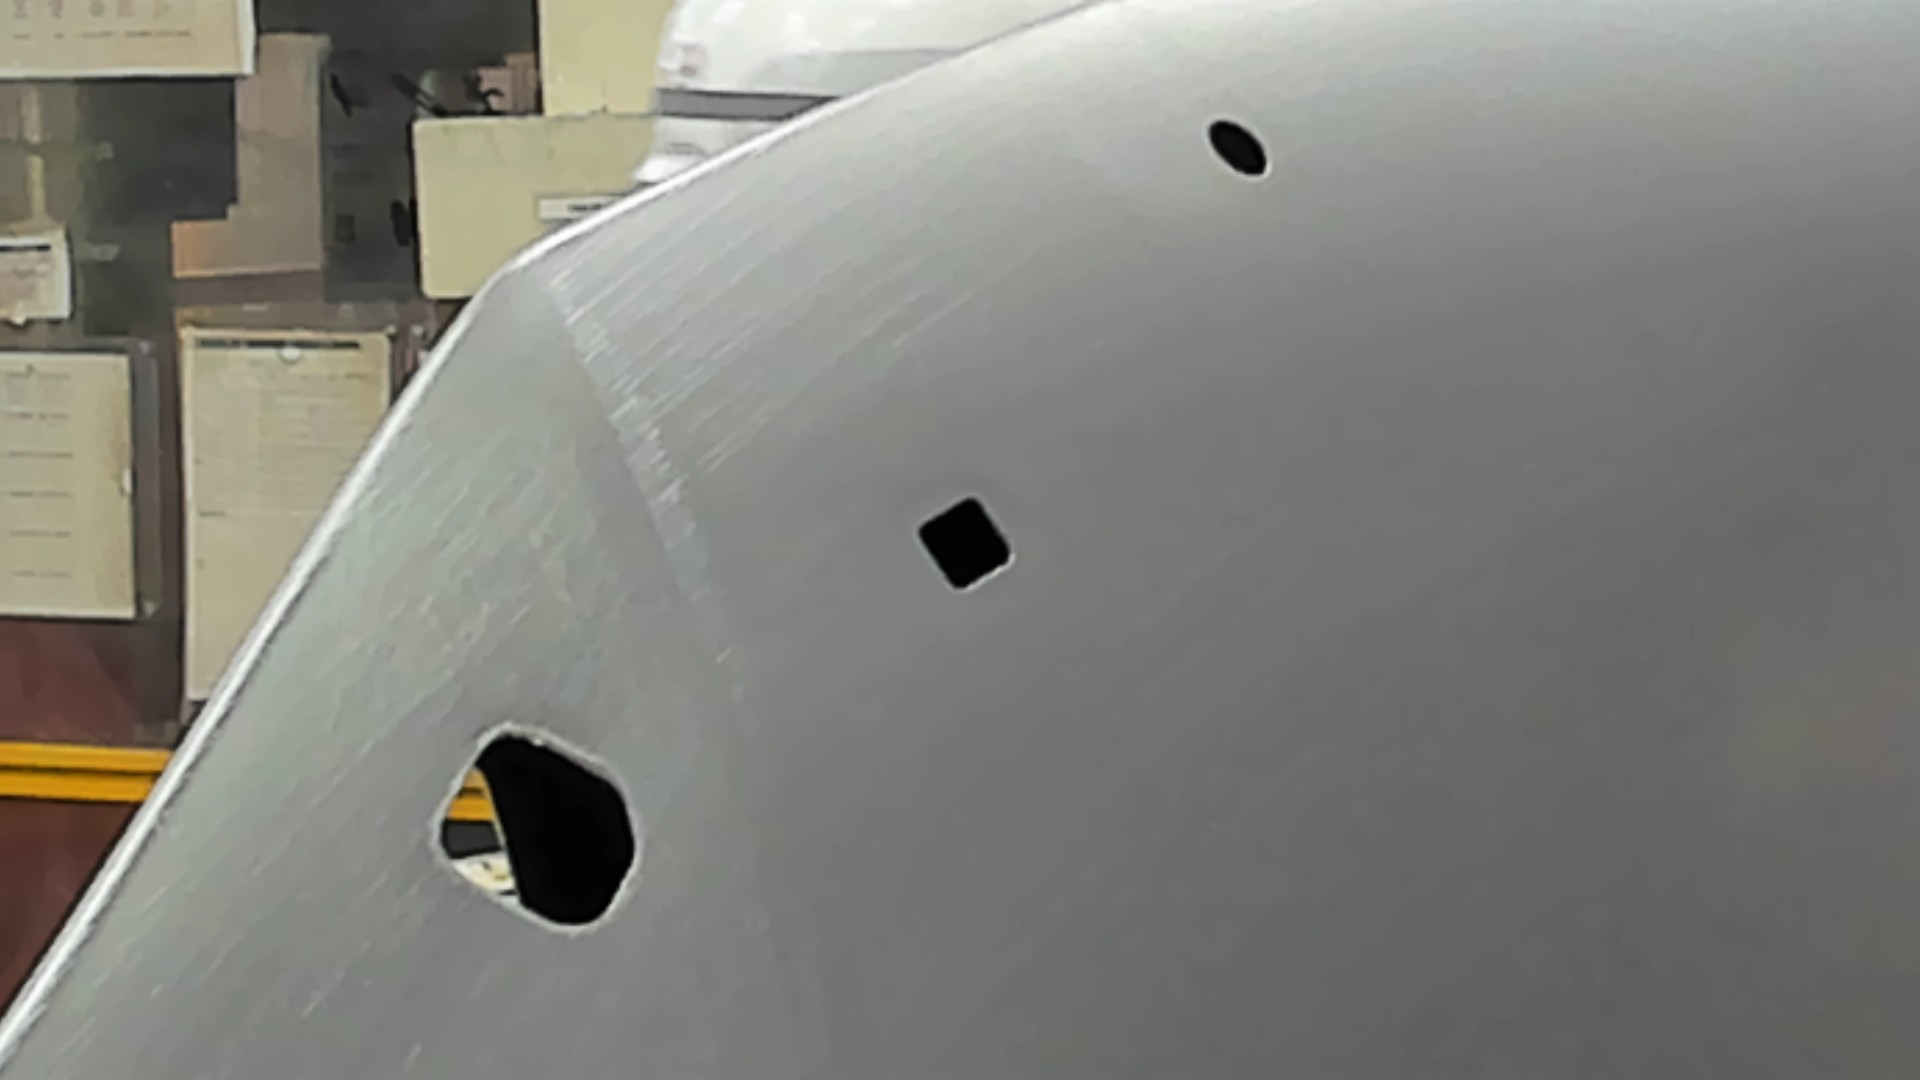chico: (1197, 113, 1271, 182)
grande: (419, 713, 644, 938)
mediano: (909, 491, 1019, 603)
